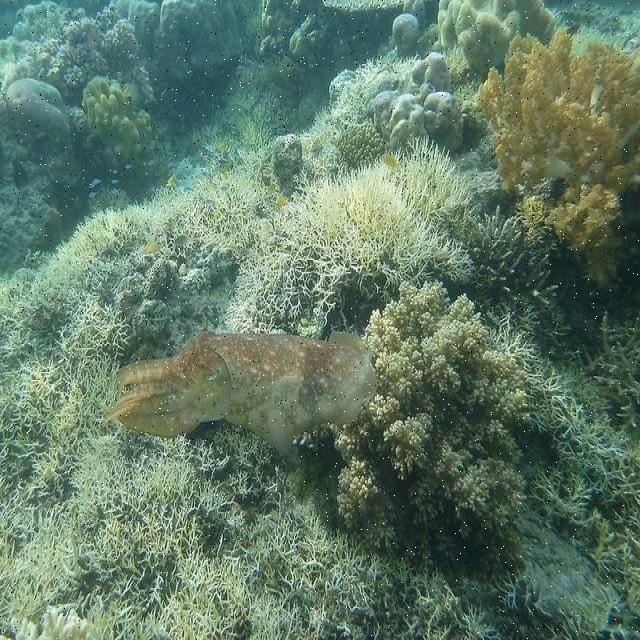reefs: (105, 327, 379, 458)
